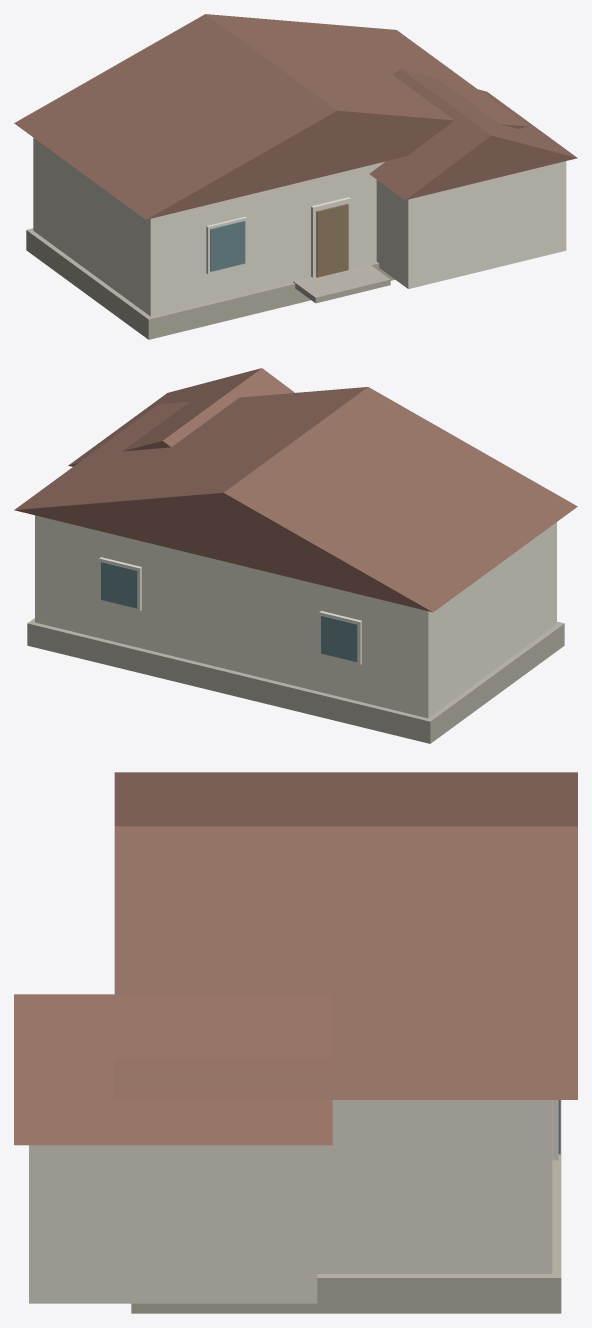
3 renders of one model, top to bottom at view 1: azimuth 30°, elevation 25°; view 2: azimuth 150°, elevation 25°; view 3: azimuth 270°, elevation 25°, orthographic. The views are drawn at different scales.
Size of the model in its own units: 13.49 by 6 by 9.31.
